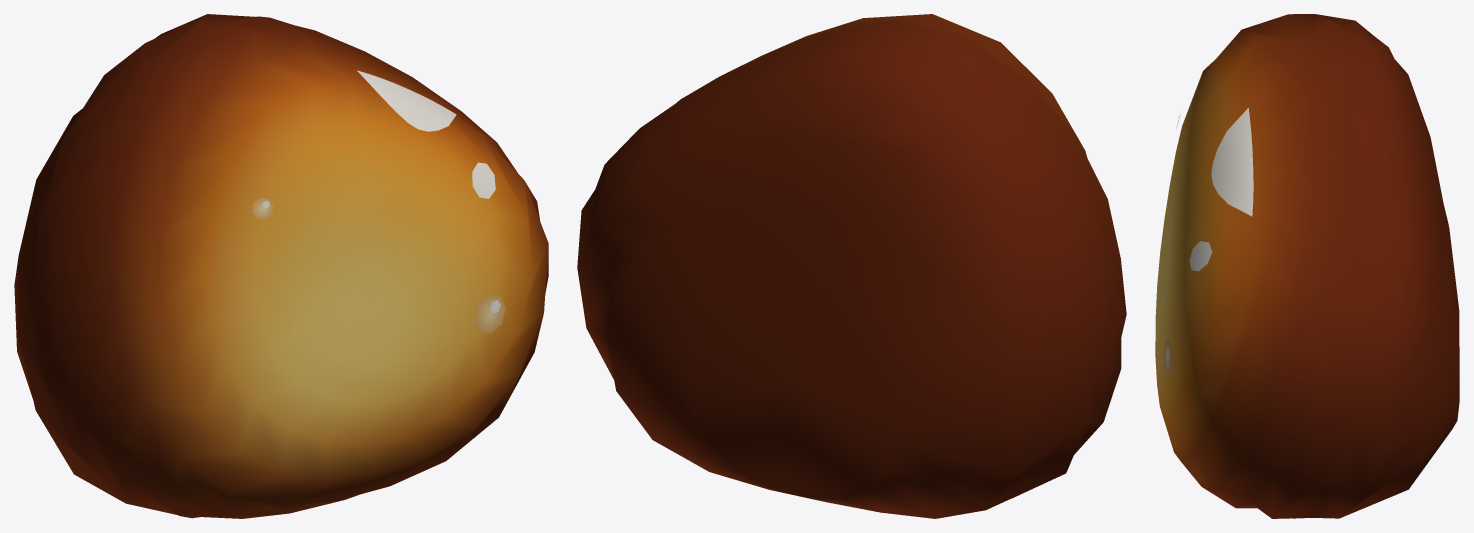
The model's file is Amber.glb.
3 views of the same model, side by side, from view 1: azimuth 30°, elevation 25°; view 2: azimuth 150°, elevation 25°; view 3: azimuth 270°, elevation 25° (orthographic). The views are drawn at different scales.
Parts seen in each view (by area): view 1: Amber; view 2: Amber; view 3: Amber.
Boxes of the visible parts, x1,y1,x2,y2 form: Amber: [14, 14, 548, 518]; Amber: [577, 14, 1126, 518]; Amber: [1155, 14, 1459, 518].
Bounding box in the file's own units: 0.7773 × 0.6949 × 0.4551.
